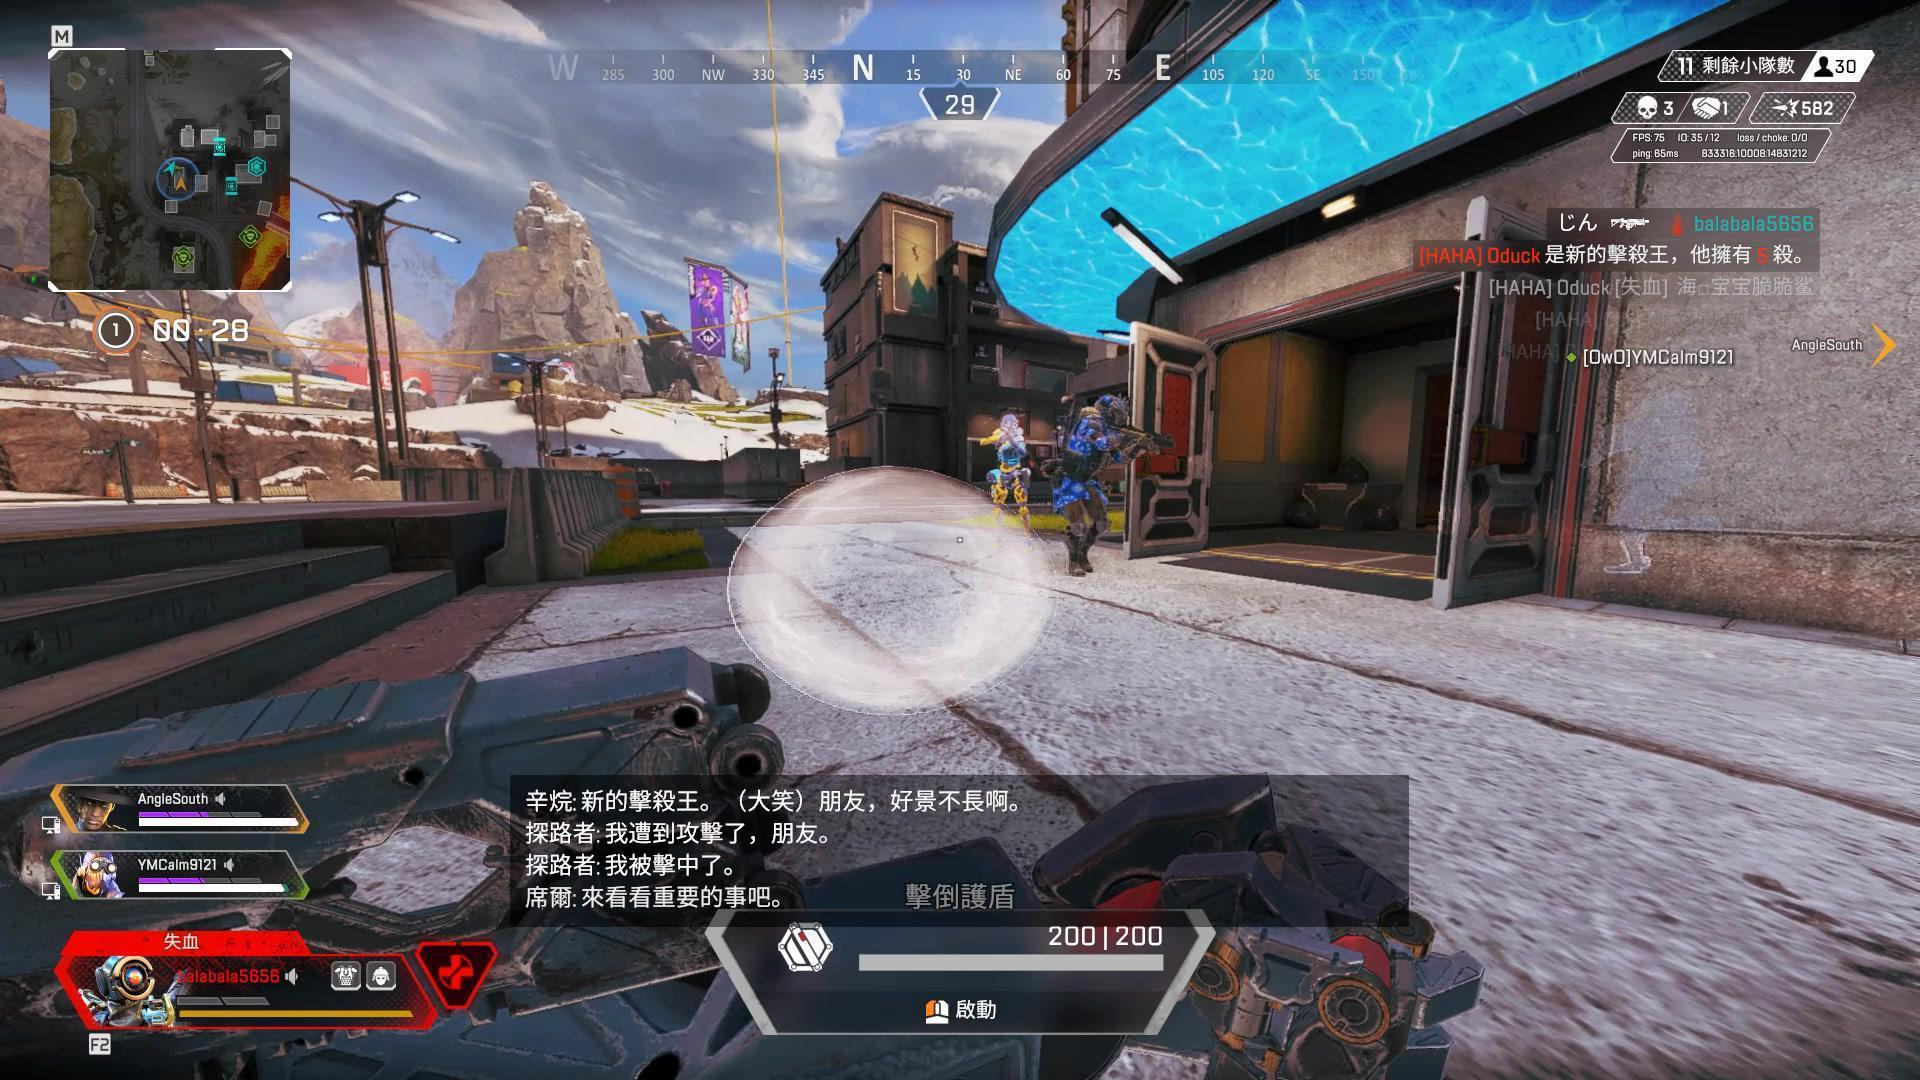avatar: (1051, 392, 1131, 580), (985, 413, 1032, 532)
